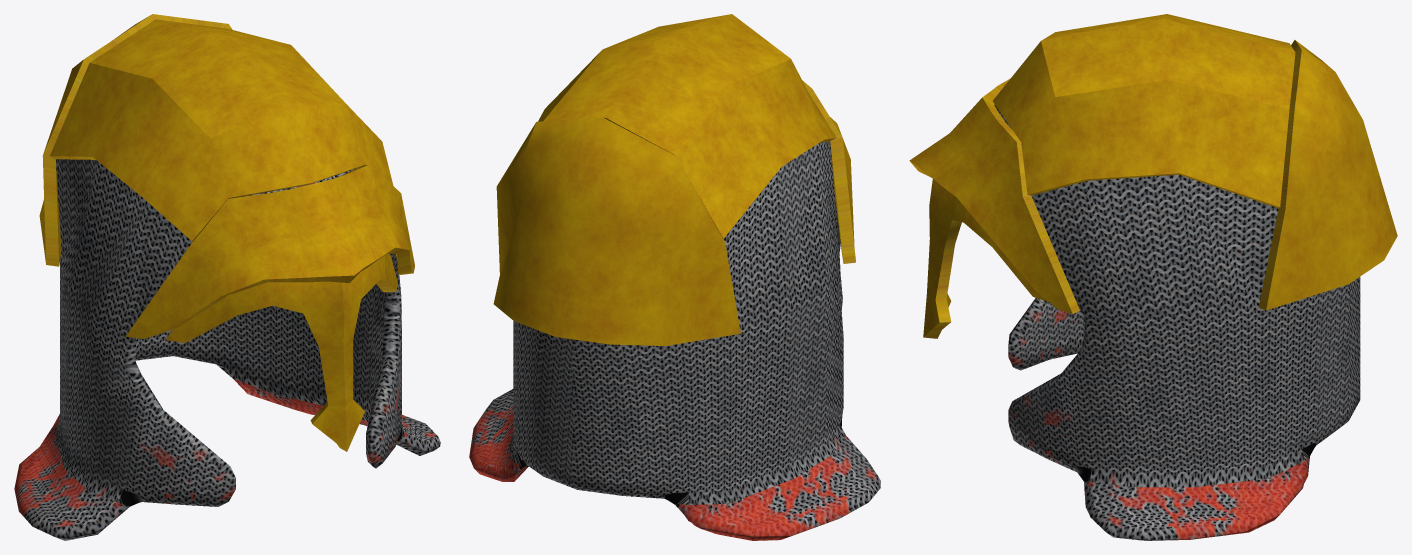
Rendered from ancient_helm.glb.
3 views of the same model, side by side, from view 1: azimuth 30°, elevation 25°; view 2: azimuth 150°, elevation 25°; view 3: azimuth 270°, elevation 25° (orthographic). The views are drawn at different scales.
Visible parts, largest first — view 1: ancient_helm; view 2: ancient_helm; view 3: ancient_helm.
Part boxes in pixels (bbox=[...]): ancient_helm: bbox=[14, 14, 440, 540]; ancient_helm: bbox=[469, 14, 880, 540]; ancient_helm: bbox=[909, 14, 1397, 540].
Bounding box in the file's own units: 0.2178 × 0.2363 × 0.239.
1 material, 1 textured.
